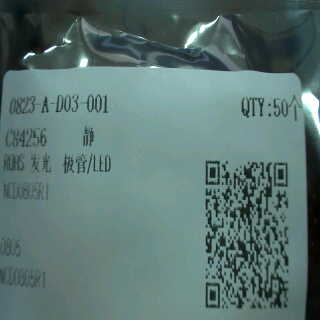LED: (29, 150, 114, 178)
